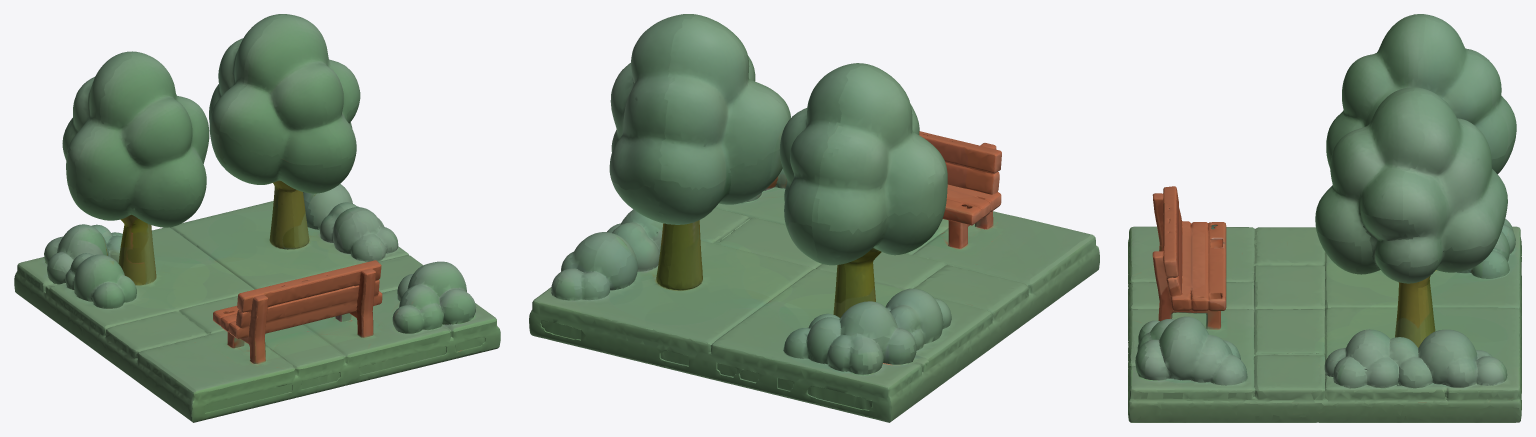
Rendered from park.glb.
3 renders of one model, left to right at view 1: azimuth 30°, elevation 25°; view 2: azimuth 150°, elevation 25°; view 3: azimuth 270°, elevation 25°, orthographic. The views are drawn at different scales.
Visible parts, largest first — view 1: geometry_0; view 2: geometry_0; view 3: geometry_0.
Part boxes in pixels (<box>): geometry_0: <box>14,14,500,422</box>; geometry_0: <box>529,14,1099,422</box>; geometry_0: <box>1128,14,1521,422</box>.
Size of the model in its own units: 0.15 by 0.1225 by 0.15.
1 material, 1 textured.
